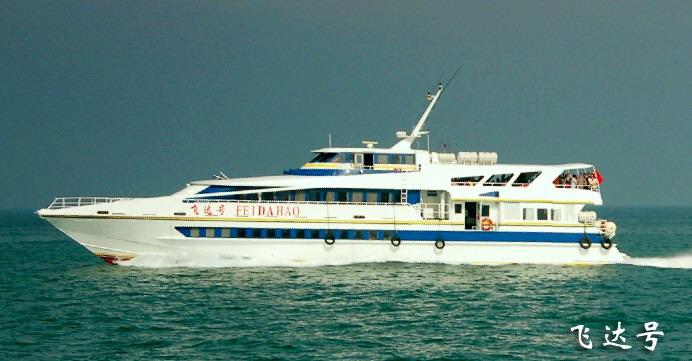yacht: (33, 77, 625, 270)
